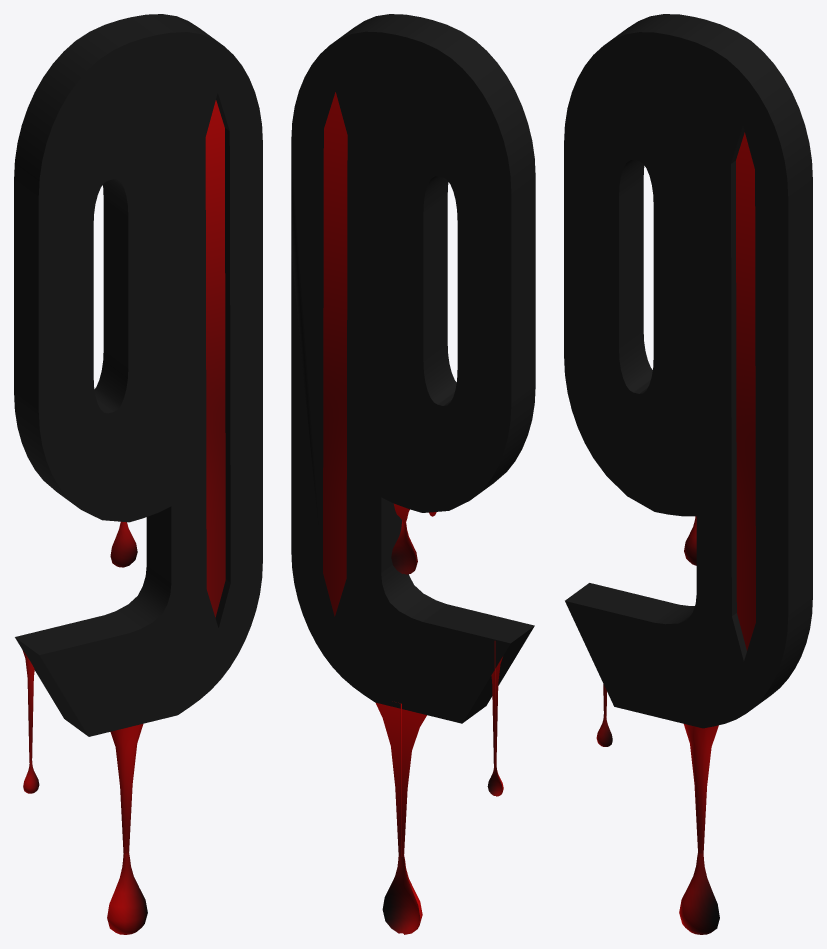
3 renders of one model, left to right at view 1: azimuth 30°, elevation 25°; view 2: azimuth 150°, elevation 25°; view 3: azimuth 330°, elevation 25°, orthographic.
Parts seen in each view (by area): view 1: 9, 9_Element, Blood_244, Blood_252, Blood_253; view 2: 9, 9_Element, Blood_244, Blood_253, Blood_252; view 3: 9, 9_Element, Blood_244.
Part boxes in pixels (bbox=[...]): 9: bbox=[14, 14, 262, 736]; 9_Element: bbox=[205, 100, 225, 617]; Blood_244: bbox=[107, 724, 147, 934]; Blood_252: bbox=[22, 650, 39, 793]; Blood_253: bbox=[110, 521, 137, 567]; 9: bbox=[291, 14, 535, 723]; 9_Element: bbox=[323, 92, 347, 616]; Blood_244: bbox=[376, 703, 426, 934]; Blood_253: bbox=[391, 503, 436, 574]; Blood_252: bbox=[487, 641, 503, 796]; 9: bbox=[564, 14, 812, 728]; 9_Element: bbox=[736, 132, 755, 650]; Blood_244: bbox=[679, 724, 719, 934].
Size of the model in its own units: 26.2 by 102 by 5.04.
Materials: 2 (1 with a texture image).
